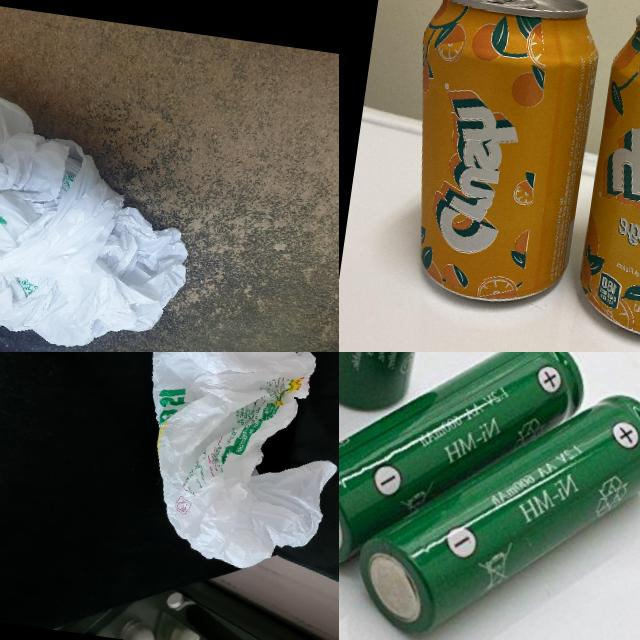bateria: (347, 359, 640, 640), (339, 352, 592, 600)
lata: (383, 0, 607, 317), (569, 5, 640, 352)
sacola plástica: (0, 84, 206, 352), (123, 352, 339, 577)
